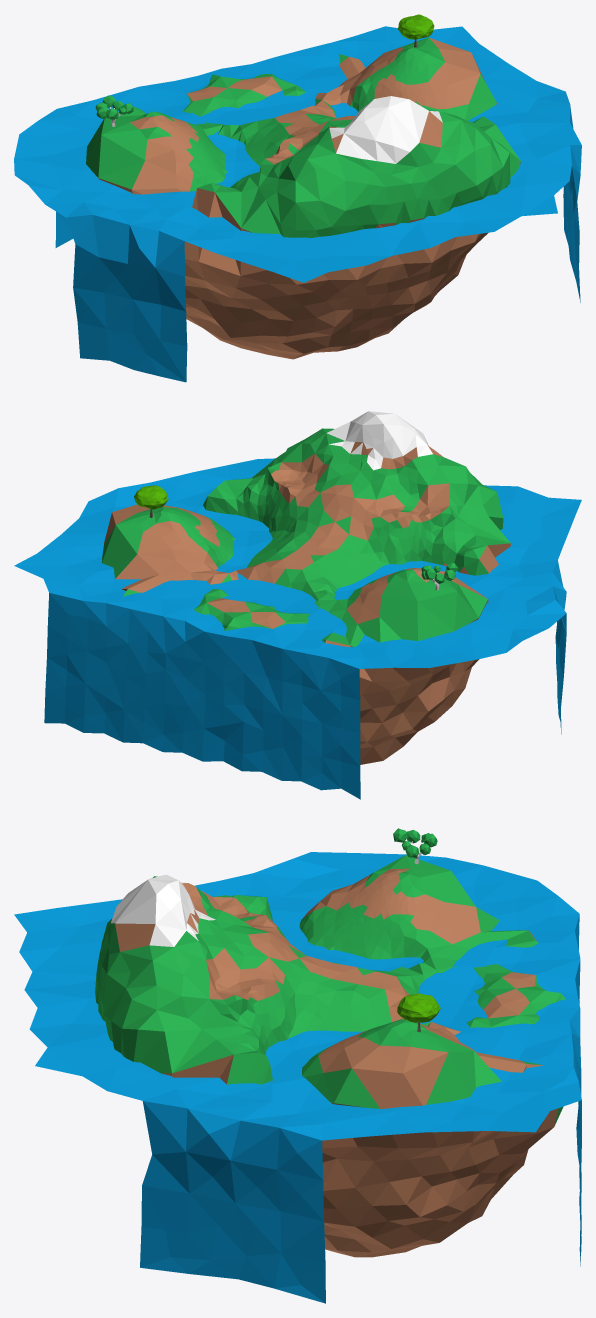
Rendered from Isla1Arbol2.fbx.
The picture shows the model from 3 angles, top to bottom: view 1: azimuth 30°, elevation 25°; view 2: azimuth 150°, elevation 25°; view 3: azimuth 270°, elevation 25°; orthographic projection. The views are drawn at different scales.
Parts seen in each view (by area): view 1: Isla, agua, hojasArbol1; view 2: agua, Isla, hojasArbol1; view 3: Isla, agua, hojasArbol1.
Part boxes in pixels (x1=…): Isla: x1=86, y1=37, x2=520, y2=359; agua: x1=14, y1=26, x2=581, y2=382; hojasArbol1: x1=398, y1=14, x2=434, y2=39; agua: x1=14, y1=458, x2=581, y2=799; Isla: x1=101, y1=411, x2=510, y2=764; hojasArbol1: x1=134, y1=485, x2=168, y2=509; Isla: x1=95, y1=855, x2=565, y2=1257; agua: x1=14, y1=852, x2=581, y2=1303; hojasArbol1: x1=397, y1=993, x2=440, y2=1022.
Size of the model in its own units: 6953 by 4061 by 5786.
